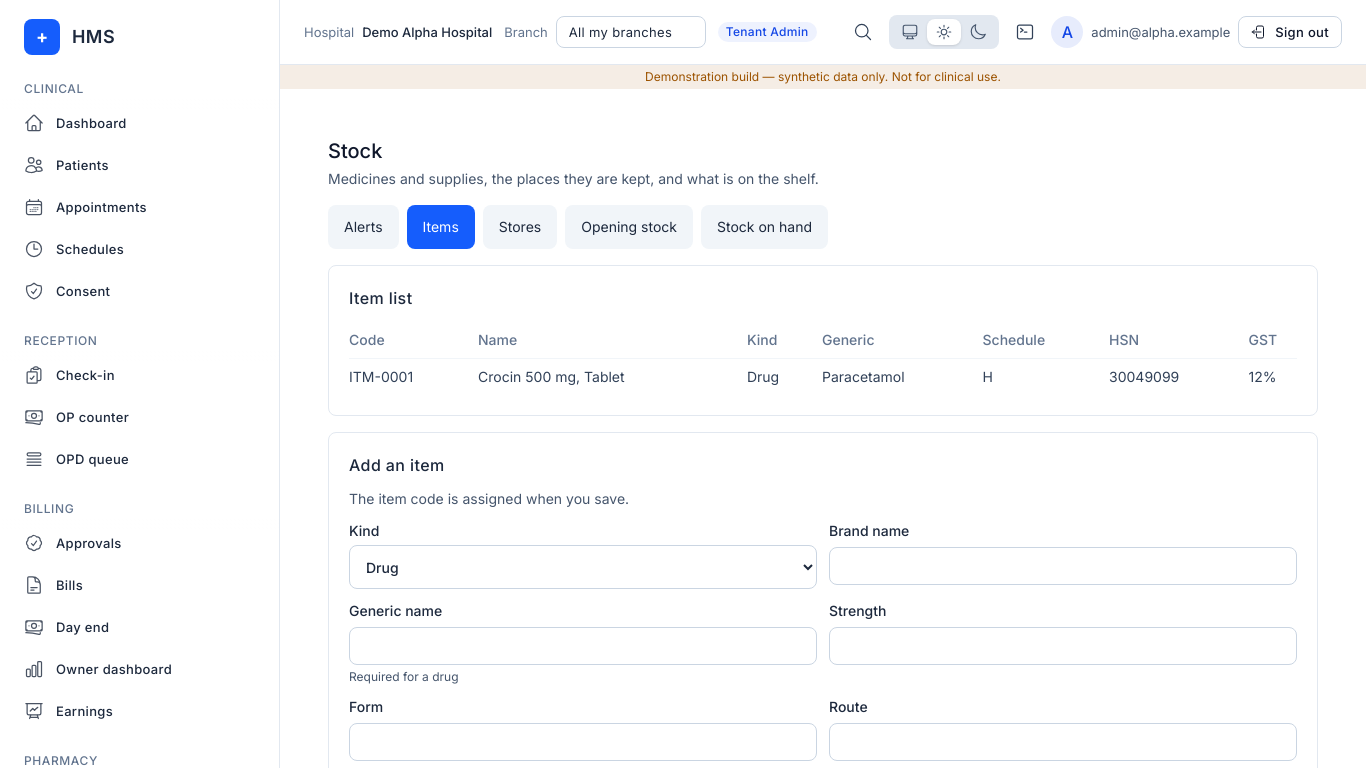
Stock page › a bad barcode shows why and fills nothing
This screenshot has width=1366, height=768.
Click the tab "Opening stock": x=629, y=227 [565, 205, 693, 249]
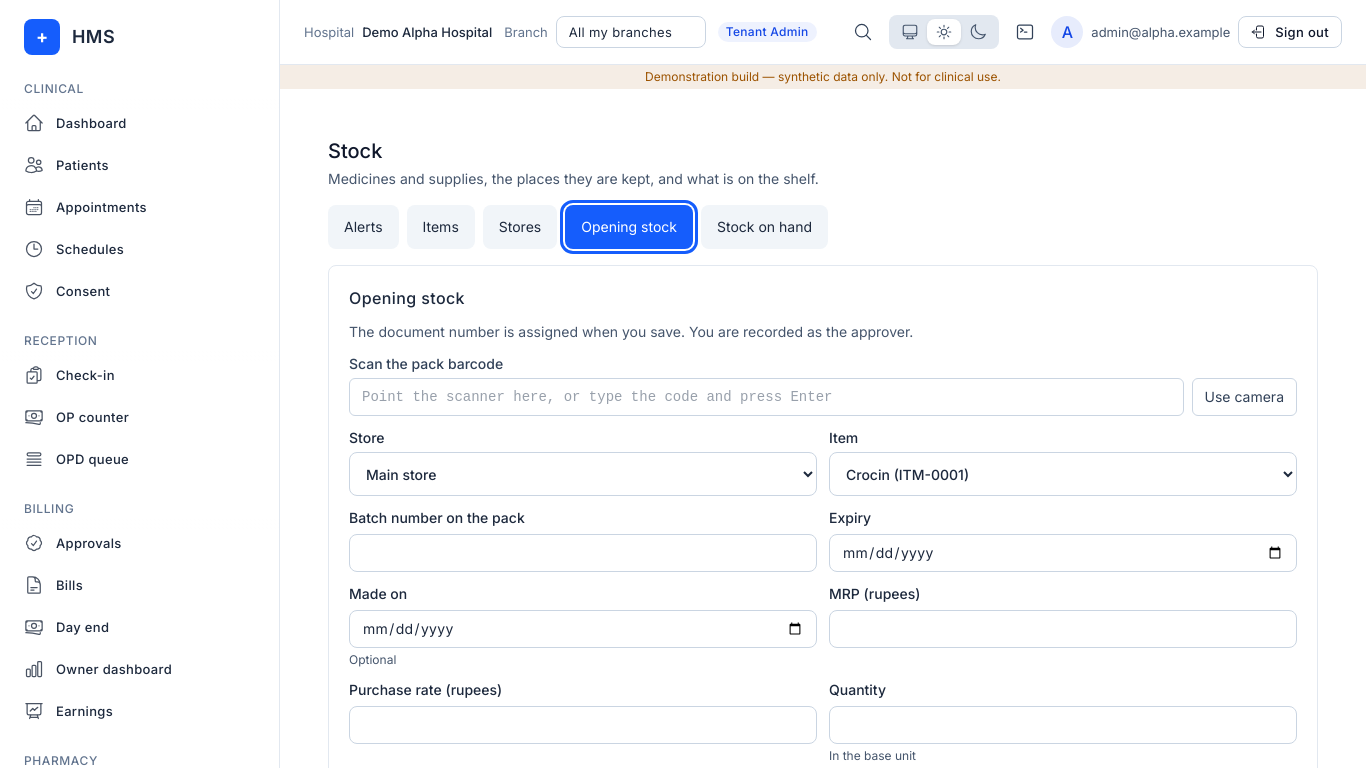
Click the field with test id "opening-scan-input": x=766, y=397 [349, 378, 1184, 416]
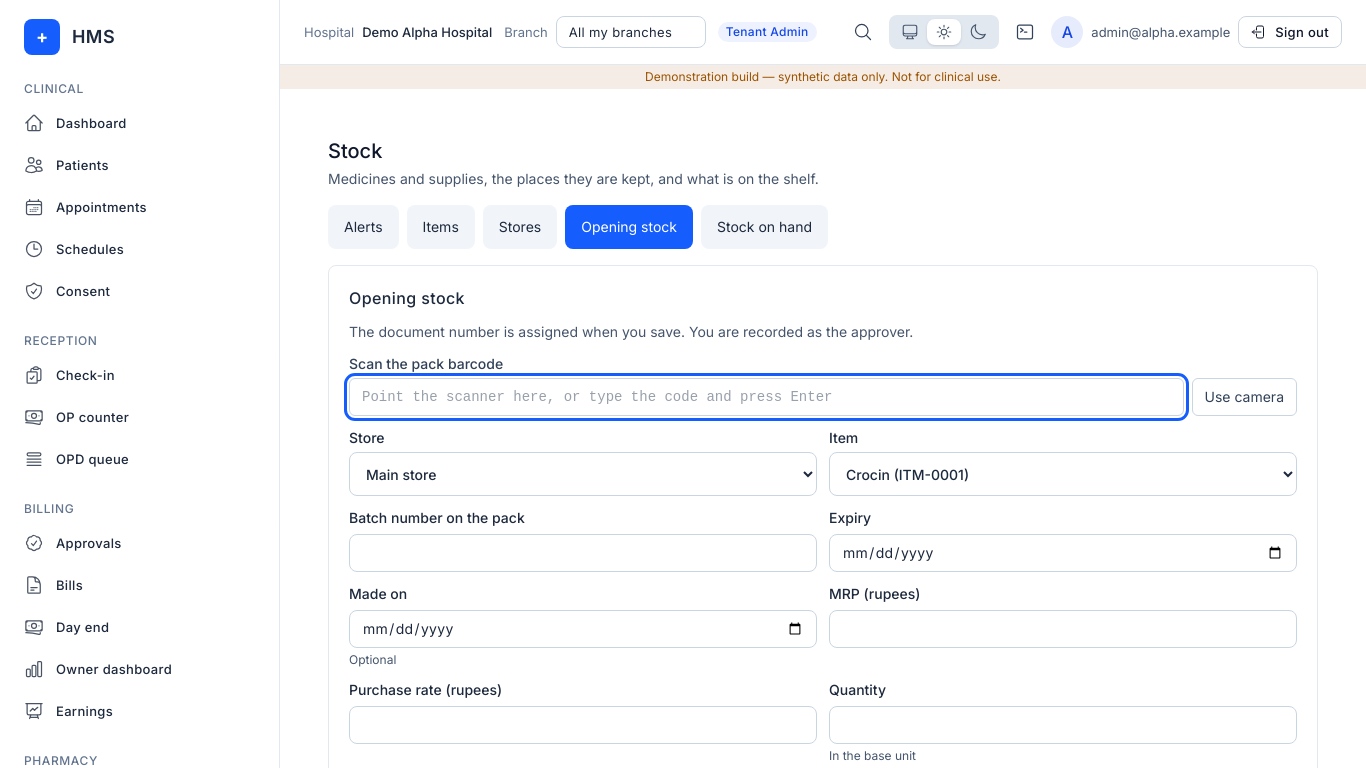
Type keys "0108901234567891"
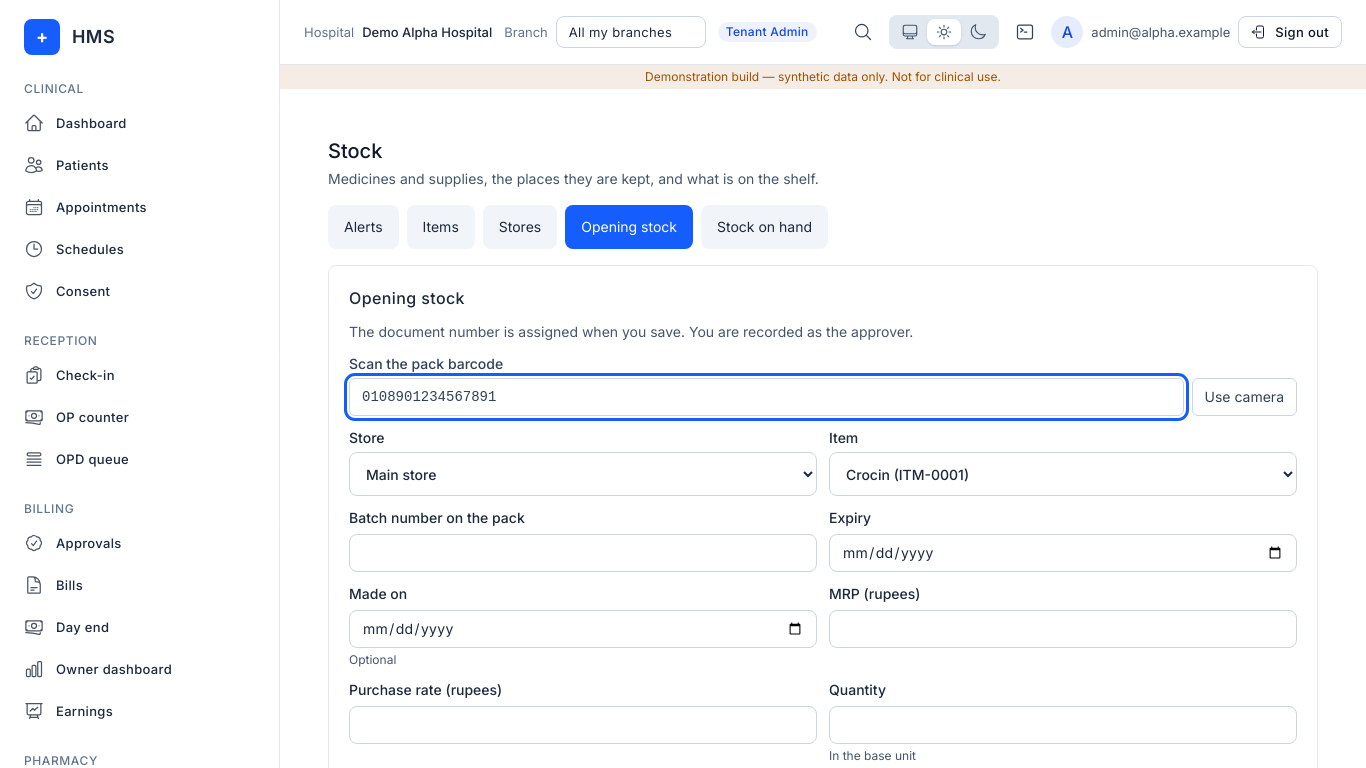
Press Enter
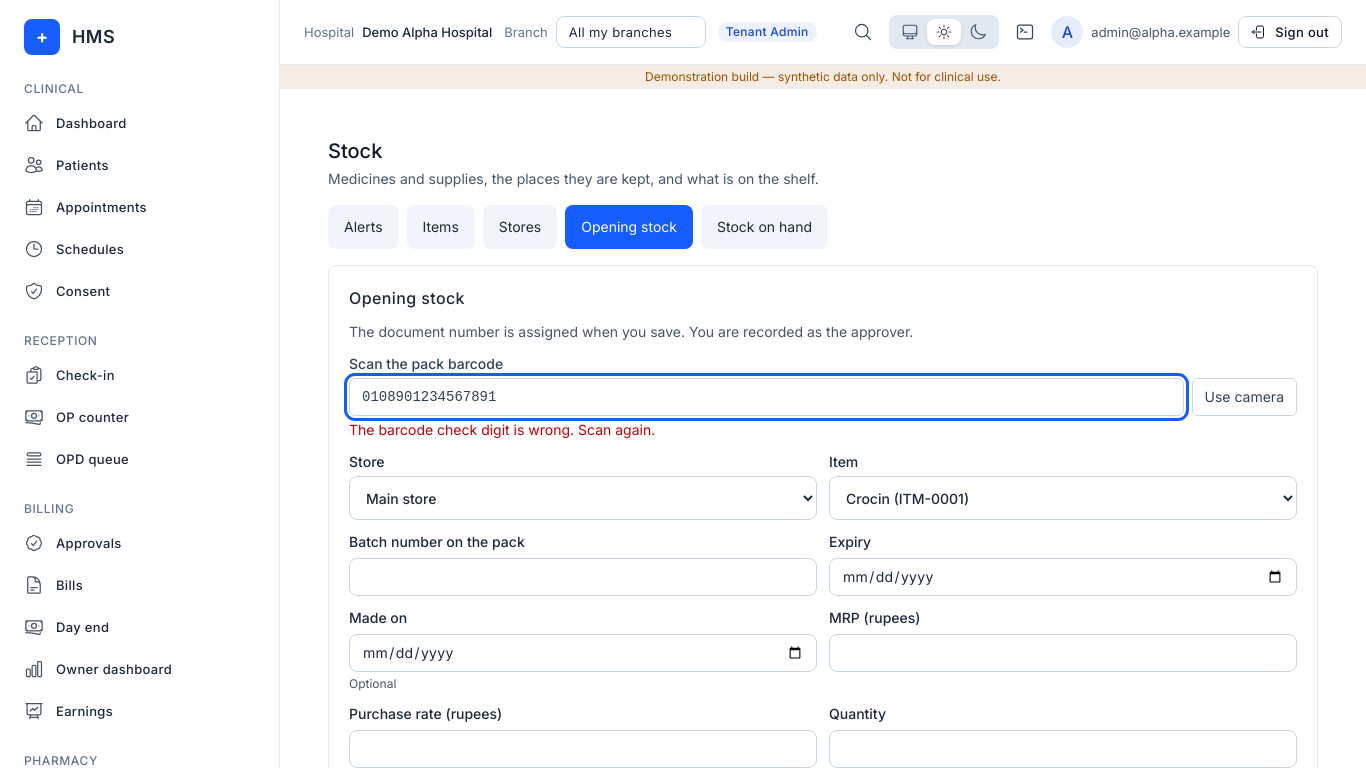
Expected: the field labelled "Batch number on the pack" is empty, [349, 558, 817, 596]
Expected: the message with test id "opening-scan-error" shows "check digit", [349, 421, 655, 438]
